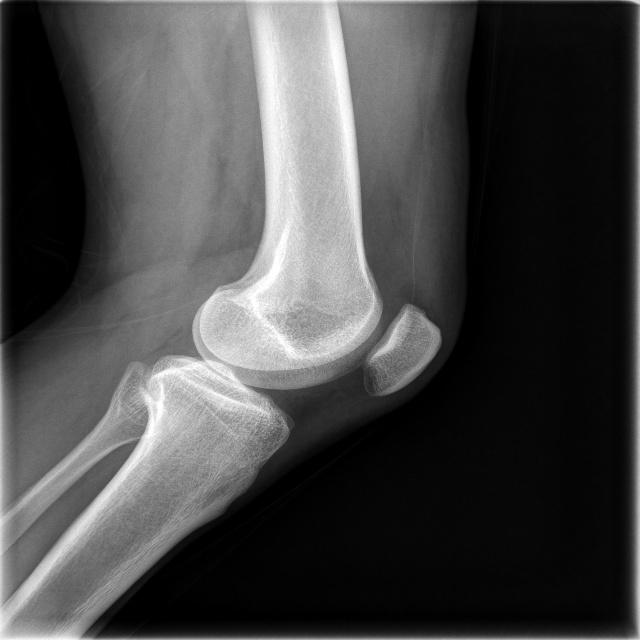Knee: (137, 276, 443, 452)
